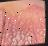plaque psoriasis: (0, 5, 48, 46)
